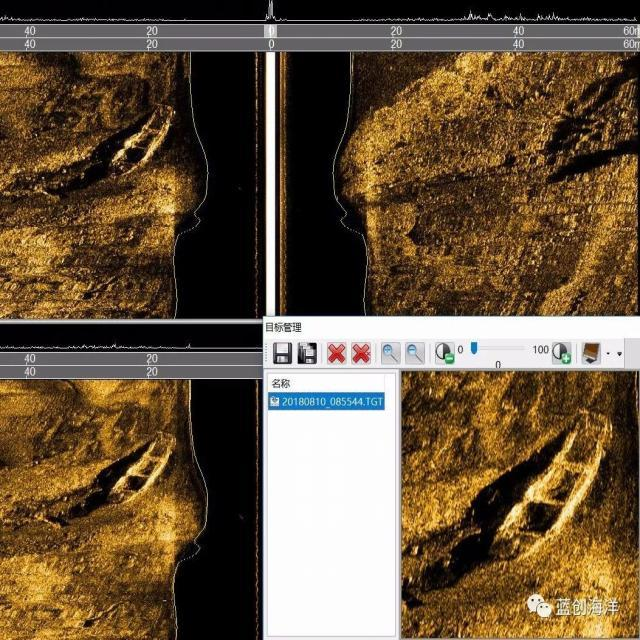shipwreck: (491, 410, 615, 562), (106, 424, 176, 502), (109, 93, 175, 173)
